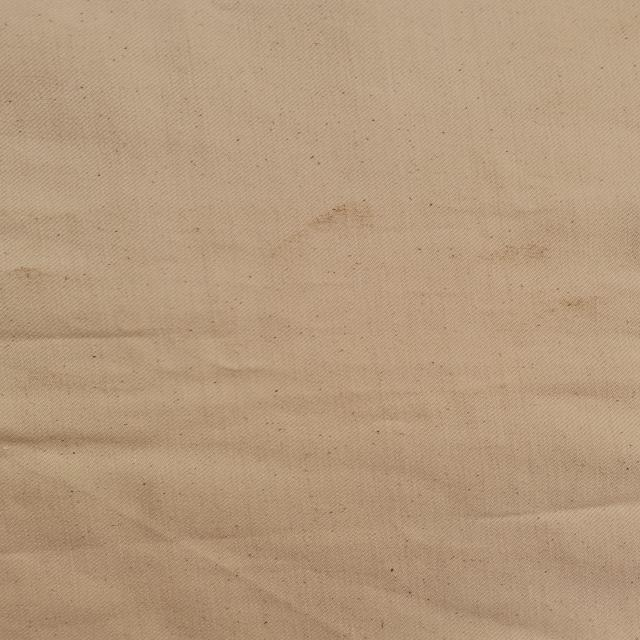taaaches: (288, 189, 383, 261), (484, 240, 560, 265), (4, 260, 52, 290), (545, 293, 598, 314)
